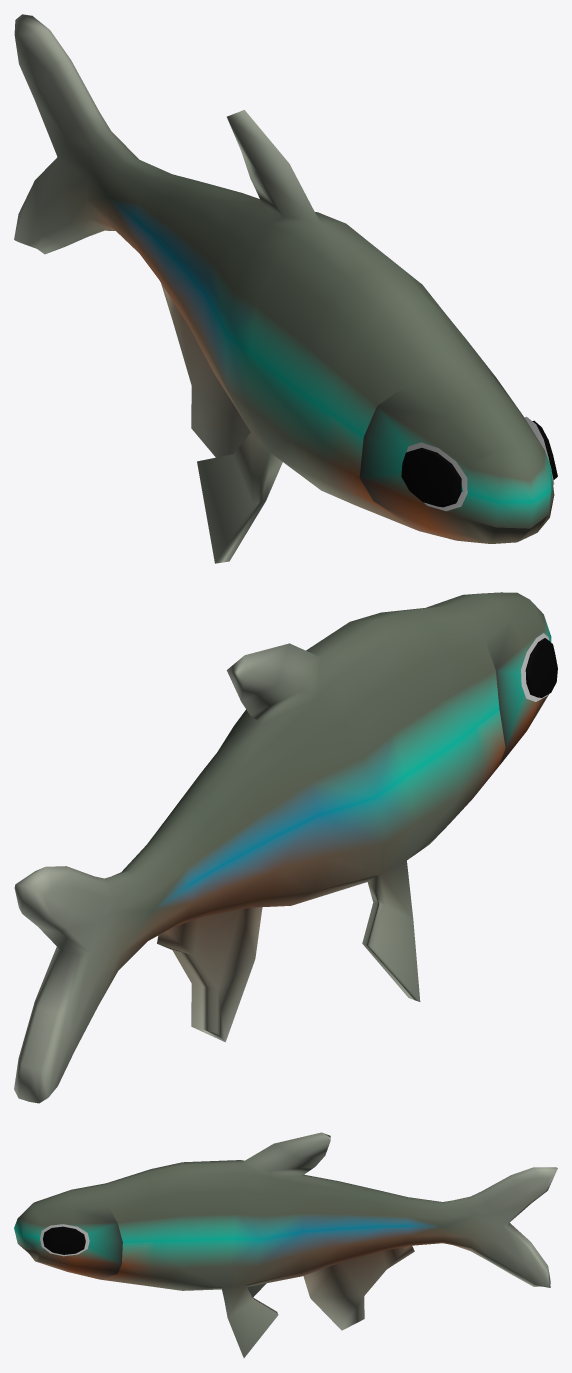
The model's file is underwater-fish-tetra_v4.fbx.
3 views of the same model, one above another, from view 1: azimuth 30°, elevation 25°; view 2: azimuth 150°, elevation 25°; view 3: azimuth 270°, elevation 25° (orthographic). The views are drawn at different scales.
Visible parts, largest first — view 1: Tetra_v4; view 2: Tetra_v4; view 3: Tetra_v4.
Part boxes in pixels (box(x1,y1,x2,y2)): Tetra_v4: box(14, 14, 557, 563); Tetra_v4: box(14, 592, 557, 1103); Tetra_v4: box(14, 1132, 557, 1357).
Size of the model in its own units: 0.00926 by 0.0162 by 0.04.
